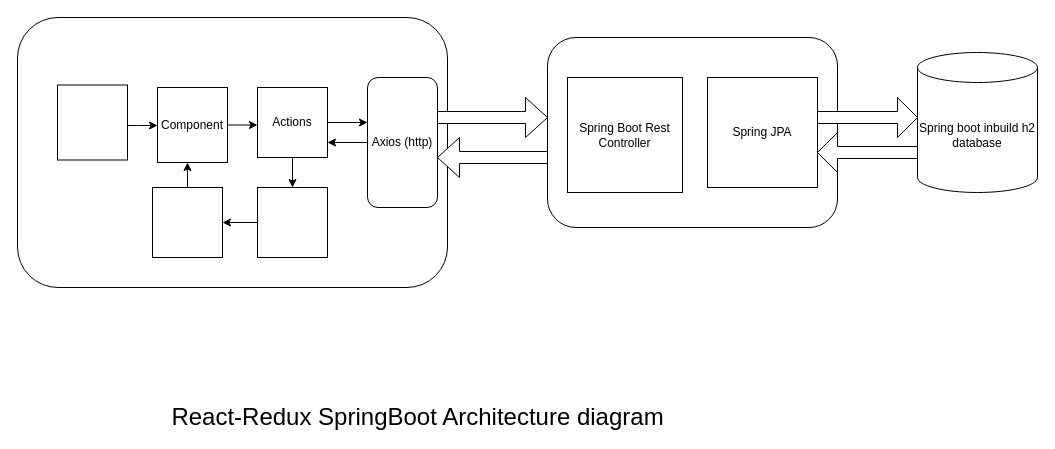
This 1055x449 diagram has some shape labels left out. Here are the shapes that lost their labels. From the top down, the centre of each, then its label:
[92,122]: Router
[187,222]: Redux Store
[292,222]: Reducers
